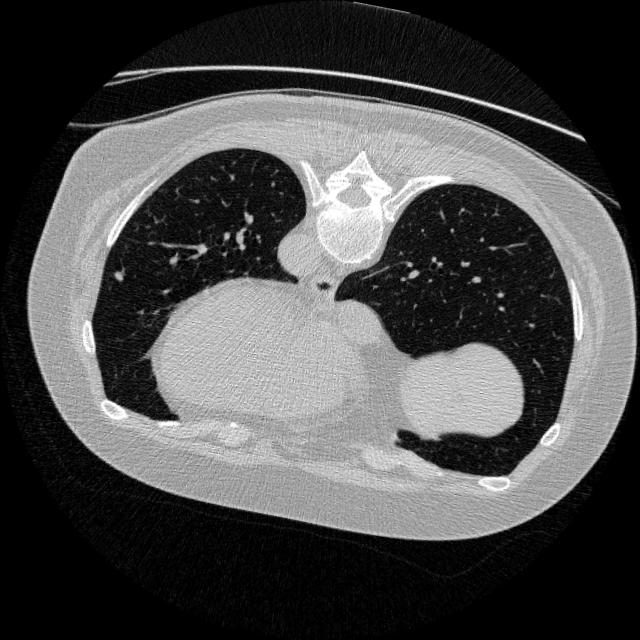nodule: (108, 266, 131, 288)
